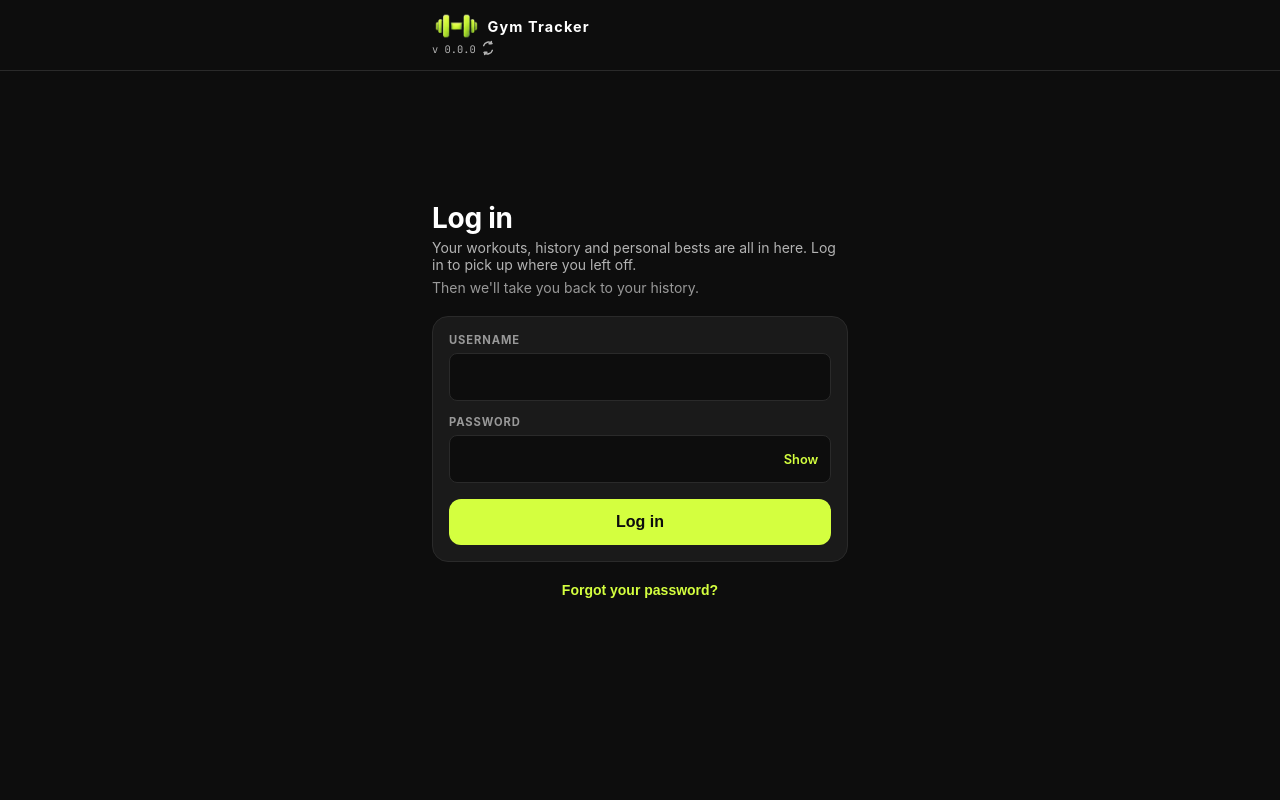
Scenario: logging in › returns to the screen the guard interrupted
This screenshot has width=1280, height=800.
Type "kapekost" into the field labelled "Username" at (640, 377), box left=449, top=353, right=831, bottom=401
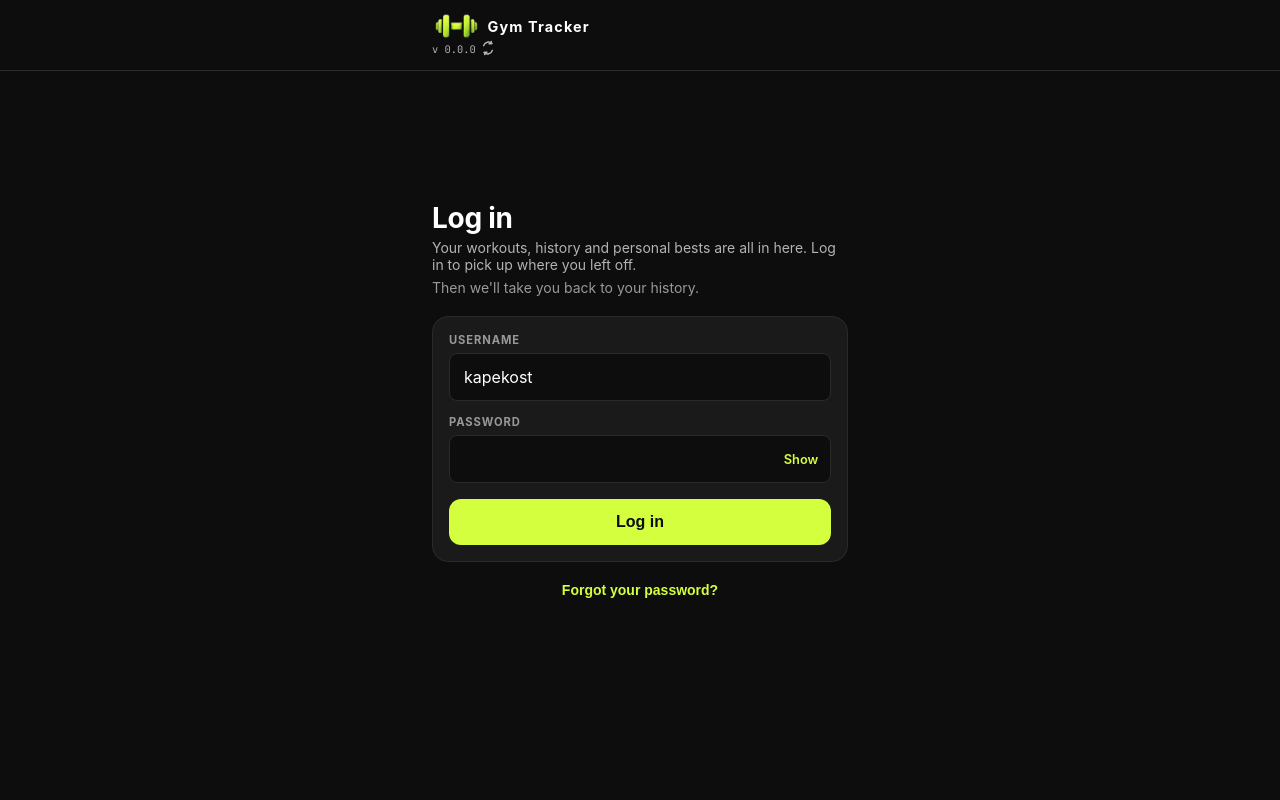
Type "correct horse battery" into the password field labelled "Password" at (640, 459), box left=449, top=435, right=831, bottom=483
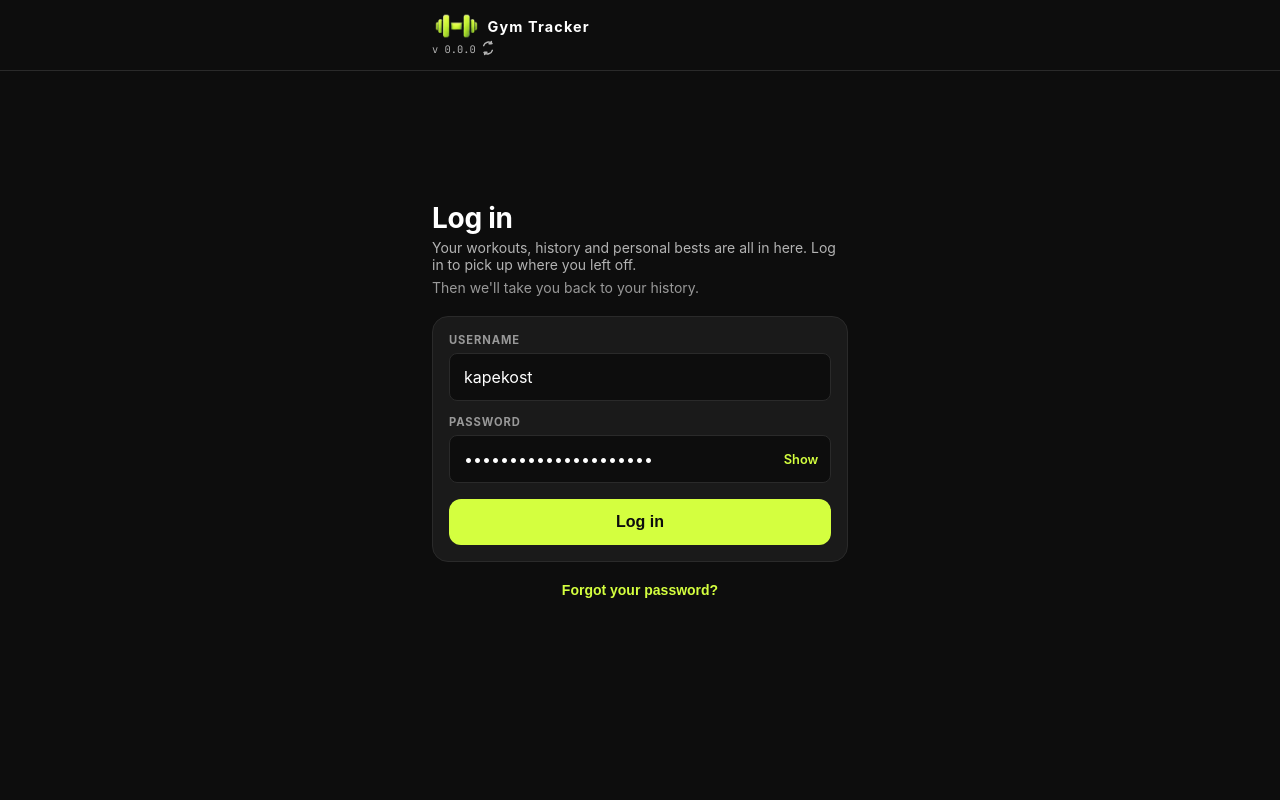
Click the button "Log in" at (640, 522), box left=449, top=499, right=831, bottom=545
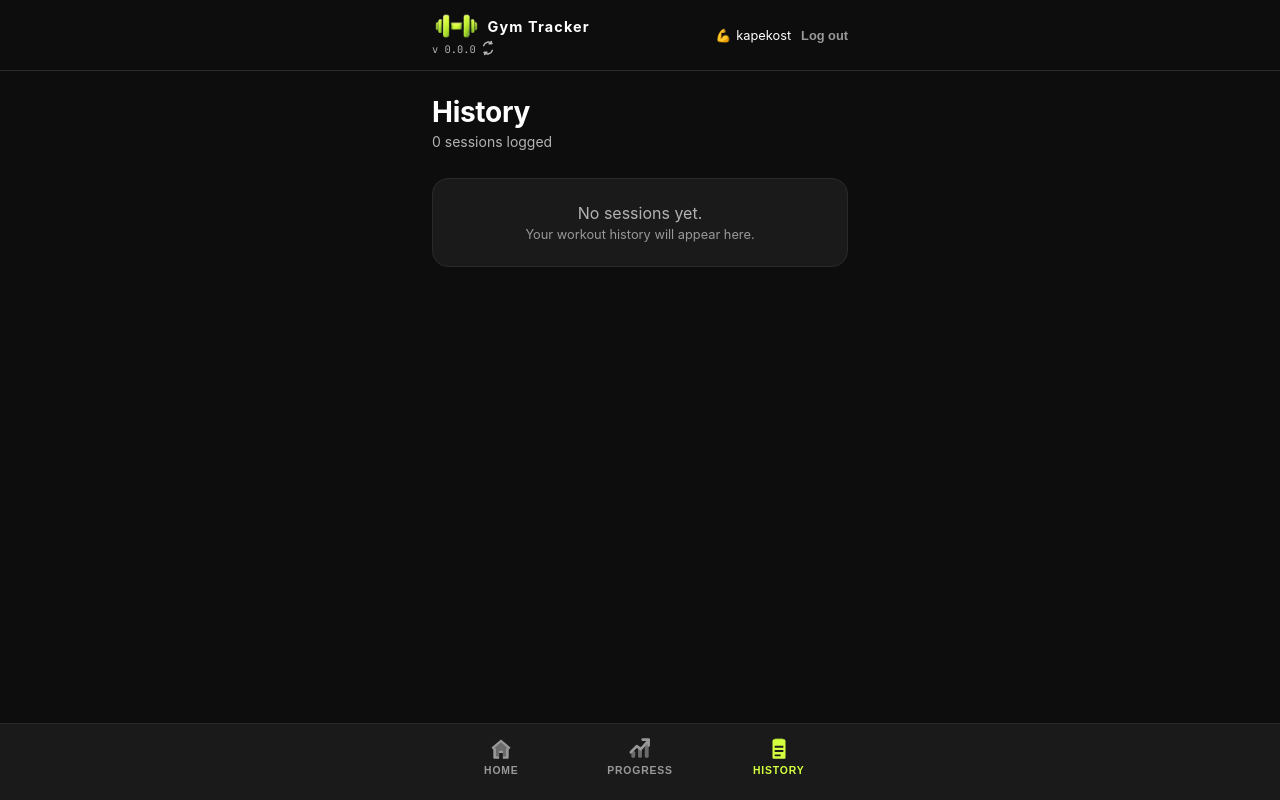
Expected: the heading "History" is shown, left=432, top=95, right=530, bottom=129
